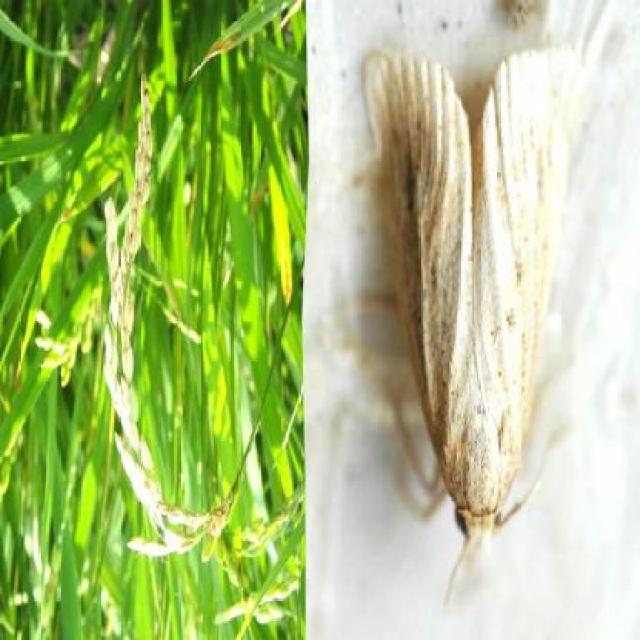stem-borer: (362, 48, 558, 584)
